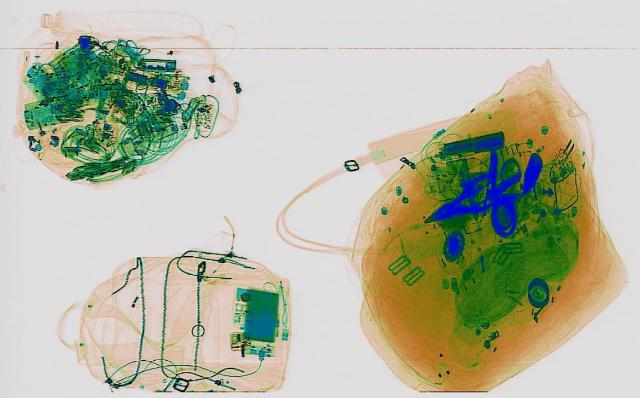Pliers: (404, 171, 518, 231)
